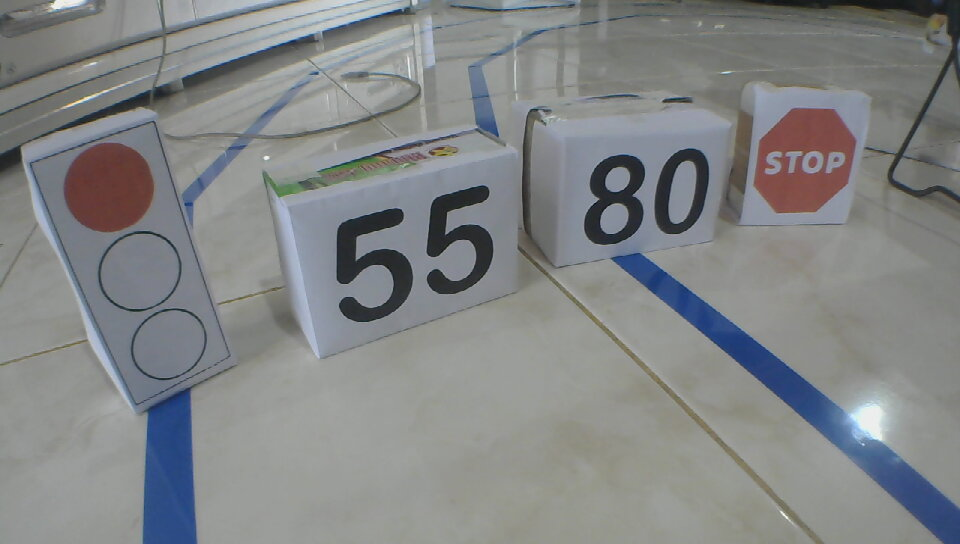Red Light: (61, 141, 207, 385)
Speed 55: (335, 185, 498, 325)
Speed 80: (579, 144, 712, 247)
Stop: (751, 105, 858, 216)
